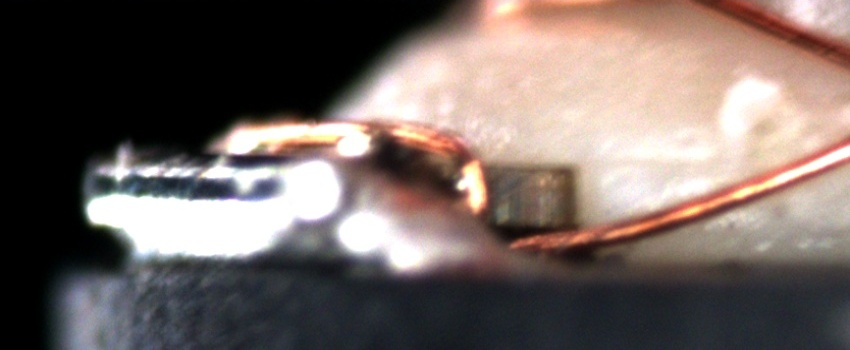DL: (594, 133, 738, 197)
TE: (224, 114, 498, 217)
